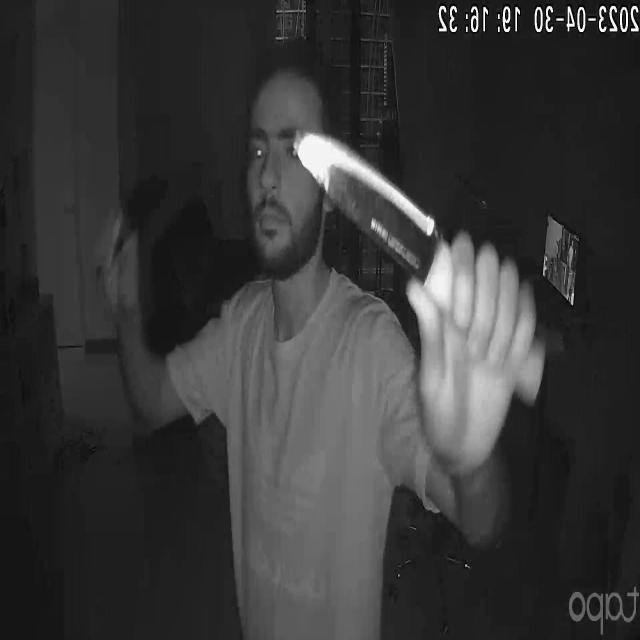Knife: (292, 124, 548, 404)
